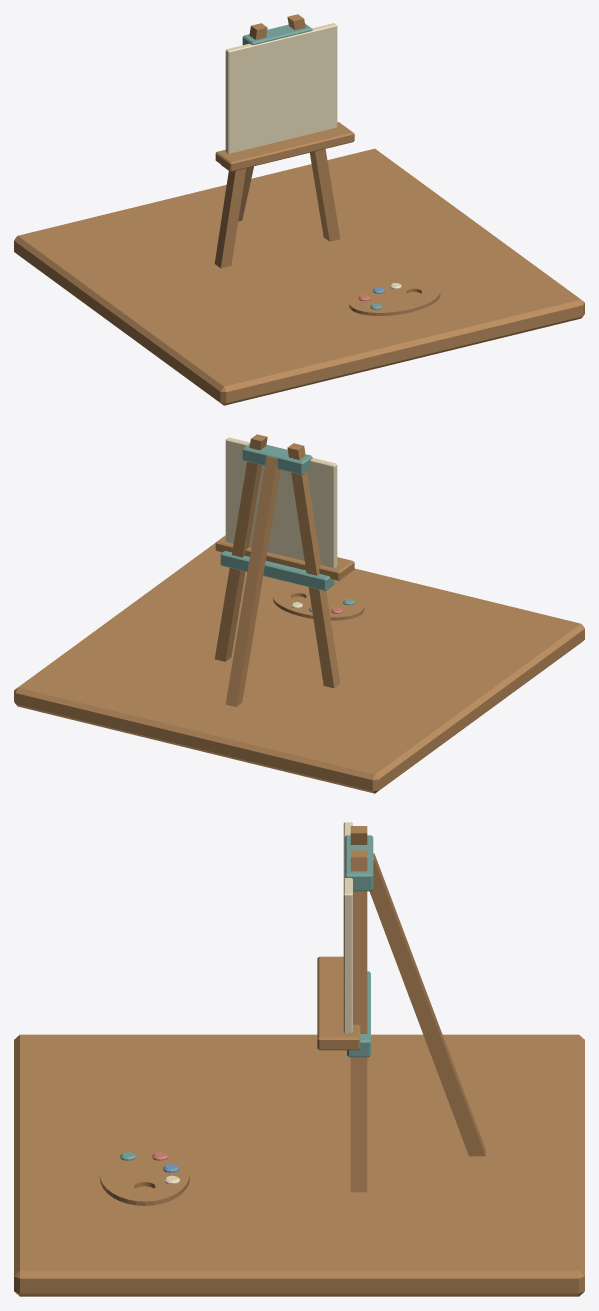
3 views of the same model, one above another, from view 1: azimuth 30°, elevation 25°; view 2: azimuth 150°, elevation 25°; view 3: azimuth 270°, elevation 25° (orthographic). The views are drawn at different scales.
Parts seen in each view (by area): view 1: painting-corner-scene-01; view 2: painting-corner-scene-01; view 3: painting-corner-scene-01.
Boxes of the visible parts, x1,y1,x2,y2 form: painting-corner-scene-01: (14, 14, 584, 405); painting-corner-scene-01: (14, 434, 584, 793); painting-corner-scene-01: (14, 822, 584, 1296).
Bounding box in the file's own units: 2.4 × 1.56 × 2.4.
